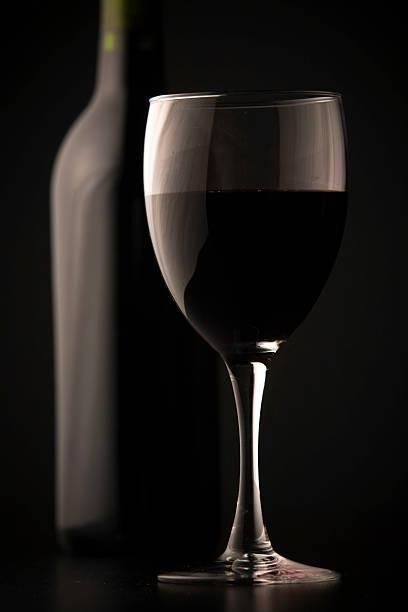glass-wine: (140, 88, 349, 590)
